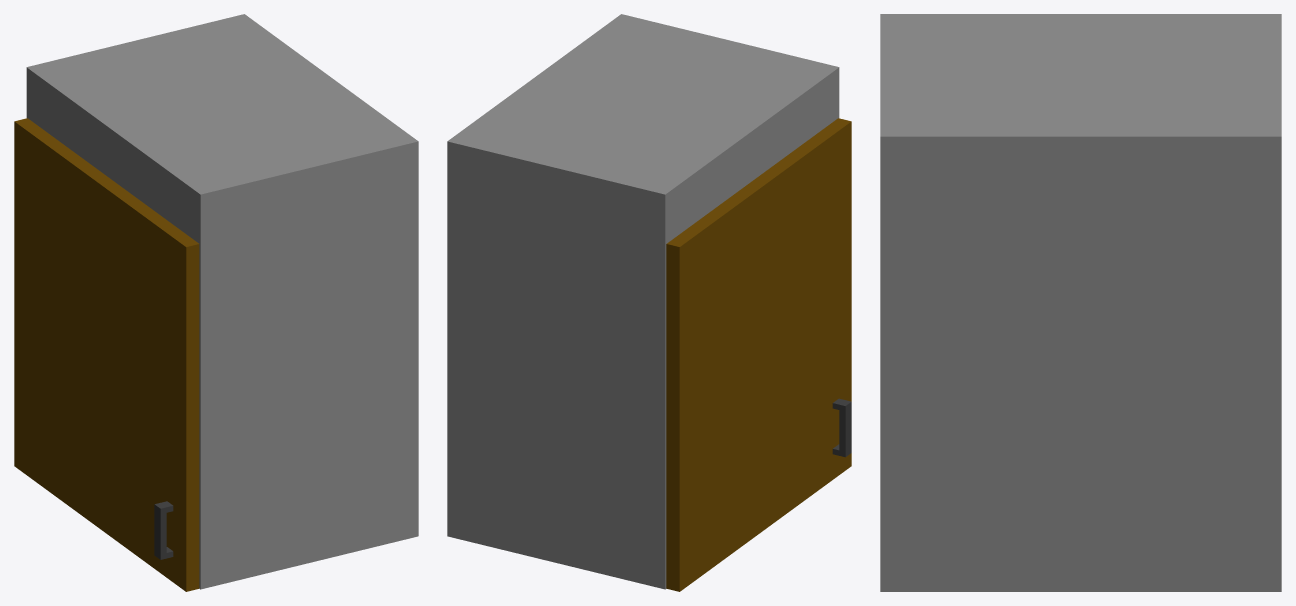
File: KitchenOverheadLeft.fbx
3 renders of one model, left to right at view 1: azimuth 30°, elevation 25°; view 2: azimuth 150°, elevation 25°; view 3: azimuth 270°, elevation 25°, orthographic. The views are drawn at different scales.
Visible parts, largest first — view 1: pCube13, pCube15; view 2: pCube13, pCube15; view 3: pCube13.
Boxes of the visible parts, <box> form: pCube13: <box>14,14,418,591</box>; pCube15: <box>154,501,173,559</box>; pCube13: <box>447,14,851,591</box>; pCube15: <box>832,398,851,457</box>; pCube13: <box>880,14,1281,591</box>.
Size of the model in its own units: 0.8097 by 1.25 by 1.
